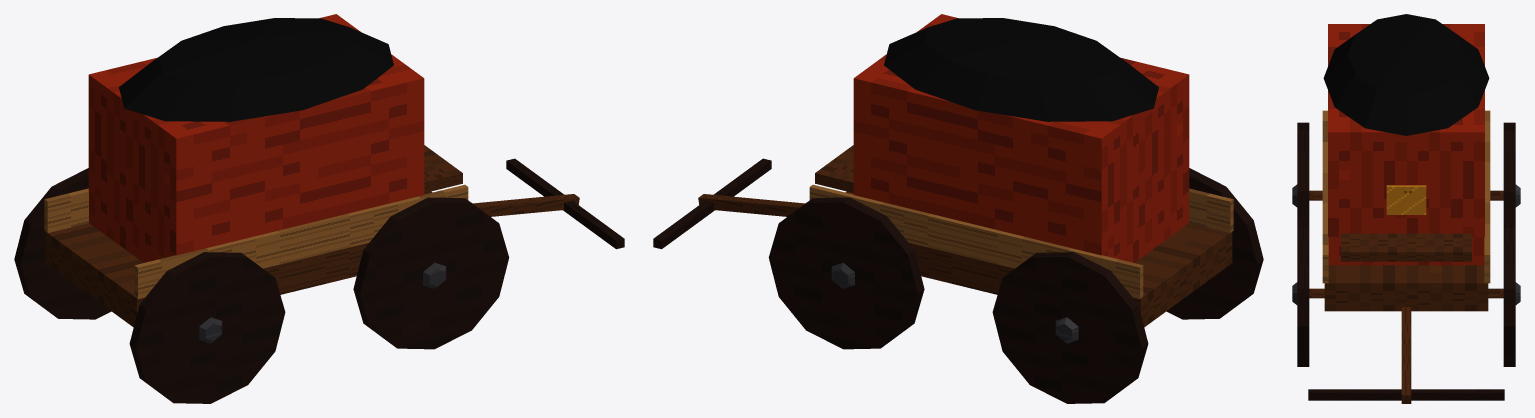
Rendered from carruaje.glb.
3 views of the same model, side by side, from view 1: azimuth 30°, elevation 25°; view 2: azimuth 150°, elevation 25°; view 3: azimuth 270°, elevation 25° (orthographic). The views are drawn at different scales.
Visible parts, largest first — view 1: cabina, rueda_der, techo, barandas, caja, rueda_izq, yugo, lanza, pescante, bujes; view 2: cabina, rueda_izq, techo, barandas, caja, rueda_der, yugo, lanza, pescante, bujes; view 3: cabina, techo, caja, pescante, rueda_izq, rueda_der, yugo, barandas, adornos, lanza, ejes, bujes.
Boxes of the visible parts, x1=… form: cabina: x1=88, y1=14, x2=424, y2=262; rueda_der: x1=129, y1=197, x2=509, y2=403; techo: x1=119, y1=18, x2=393, y2=121; barandas: x1=44, y1=184, x2=468, y2=298; caja: x1=45, y1=191, x2=432, y2=327; rueda_izq: x1=14, y1=168, x2=111, y2=319; yugo: x1=506, y1=158, x2=624, y2=249; lanza: x1=473, y1=194, x2=579, y2=216; pescante: x1=424, y1=145, x2=462, y2=192; bujes: x1=199, y1=262, x2=446, y2=343; cabina: x1=853, y1=14, x2=1189, y2=262; rueda_izq: x1=768, y1=197, x2=1148, y2=403; techo: x1=884, y1=18, x2=1158, y2=121; barandas: x1=809, y1=184, x2=1233, y2=298; caja: x1=845, y1=191, x2=1232, y2=327; rueda_der: x1=1166, y1=168, x2=1263, y2=319; yugo: x1=653, y1=158, x2=771, y2=249; lanza: x1=698, y1=194, x2=804, y2=216; pescante: x1=815, y1=145, x2=853, y2=192; bujes: x1=831, y1=262, x2=1078, y2=343; cabina: x1=1328, y1=24, x2=1484, y2=265; techo: x1=1323, y1=14, x2=1489, y2=135; caja: x1=1324, y1=265, x2=1488, y2=311; pescante: x1=1341, y1=233, x2=1471, y2=261; rueda_izq: x1=1503, y1=122, x2=1515, y2=366; rueda_der: x1=1297, y1=122, x2=1309, y2=366; yugo: x1=1308, y1=389, x2=1504, y2=400; barandas: x1=1322, y1=110, x2=1490, y2=283; adornos: x1=1386, y1=185, x2=1426, y2=214; lanza: x1=1401, y1=307, x2=1411, y2=403; ejes: x1=1309, y1=190, x2=1503, y2=298; bujes: x1=1292, y1=184, x2=1520, y2=304.
Size of the model in its own units: 5 by 2.8 by 2.2.
1 material, 1 textured.
